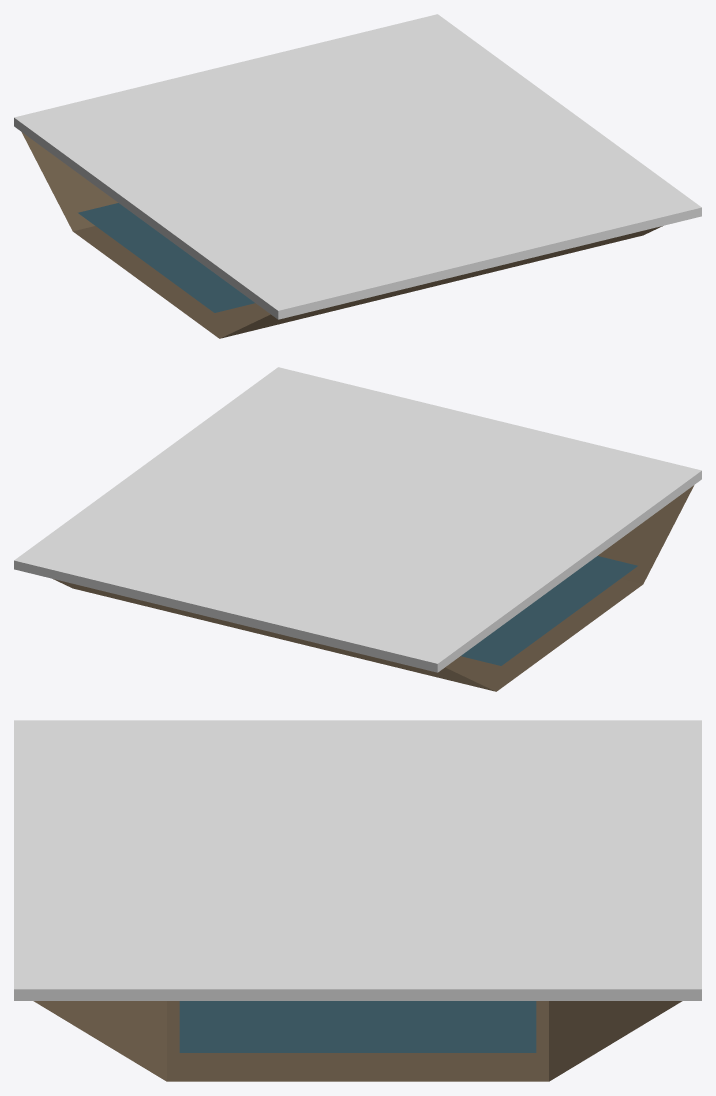
Rendered from ditch_3m.glb.
3 renders of one model, top to bottom at view 1: azimuth 30°, elevation 25°; view 2: azimuth 150°, elevation 25°; view 3: azimuth 270°, elevation 25°, orthographic. The views are drawn at different scales.
Visible parts, largest first — view 1: ditch_3m-col, water, bed, bank.001, bank; view 2: ditch_3m-col, water, bed, bank, bank.001; view 3: ditch_3m-col, water, bed, bank, bank.001.
Part boxes in pixels (x1=…): ditch_3m-col: x1=14, y1=14, x2=701, y2=319; water: x1=78, y1=203, x2=254, y2=312; bed: x1=73, y1=226, x2=270, y2=338; bank.001: x1=21, y1=132, x2=117, y2=231; bank: x1=220, y1=226, x2=662, y2=338; ditch_3m-col: x1=14, y1=367, x2=701, y2=672; water: x1=461, y1=556, x2=637, y2=665; bed: x1=445, y1=579, x2=642, y2=691; bank: x1=598, y1=485, x2=694, y2=584; bank.001: x1=53, y1=579, x2=495, y2=691; ditch_3m-col: x1=14, y1=720, x2=701, y2=1000; water: x1=179, y1=1001, x2=536, y2=1052; bed: x1=167, y1=1001, x2=548, y2=1081; bank: x1=33, y1=1001, x2=166, y2=1081; bank.001: x1=549, y1=1001, x2=682, y2=1081.
Size of the model in its own units: 5 by 0.8 by 5.4.
